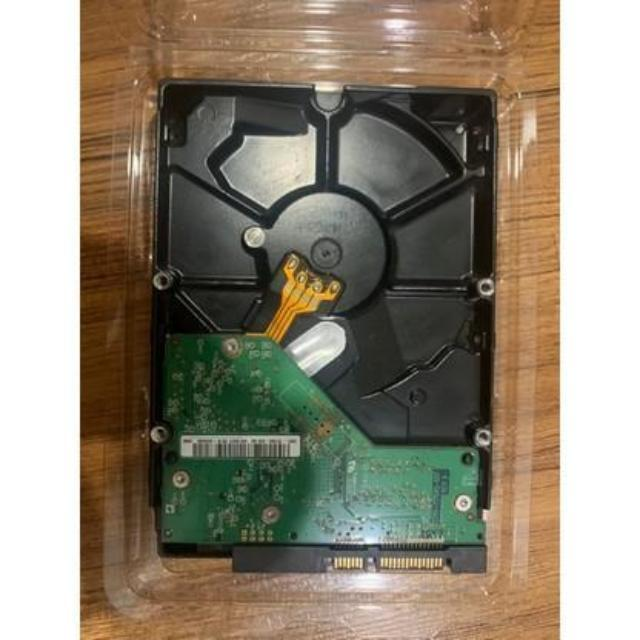DISK: (146, 67, 489, 573)
